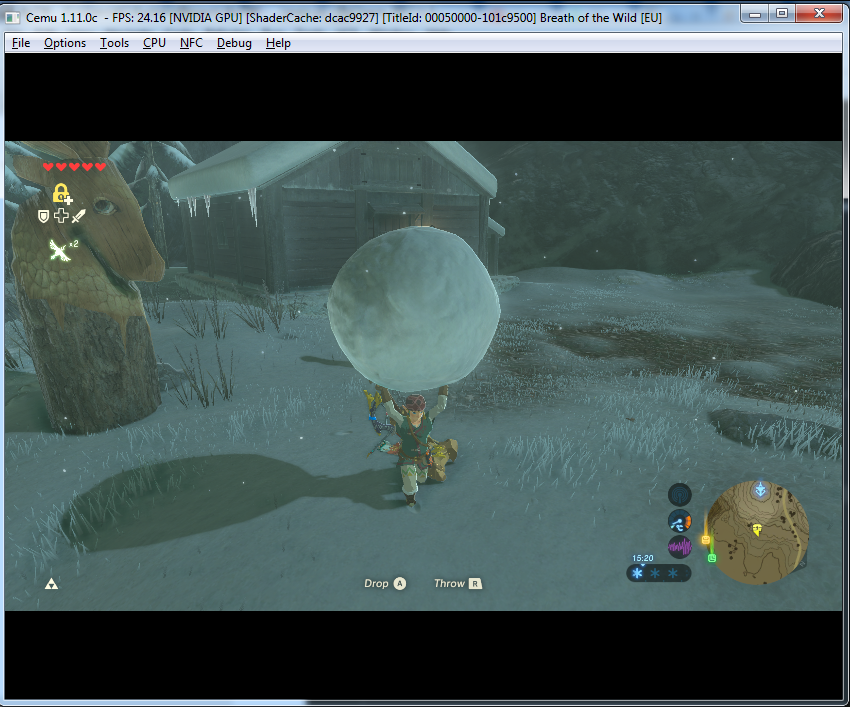link: (354, 363, 473, 511)
snowball: (320, 212, 503, 396)
totem: (5, 143, 193, 430)
